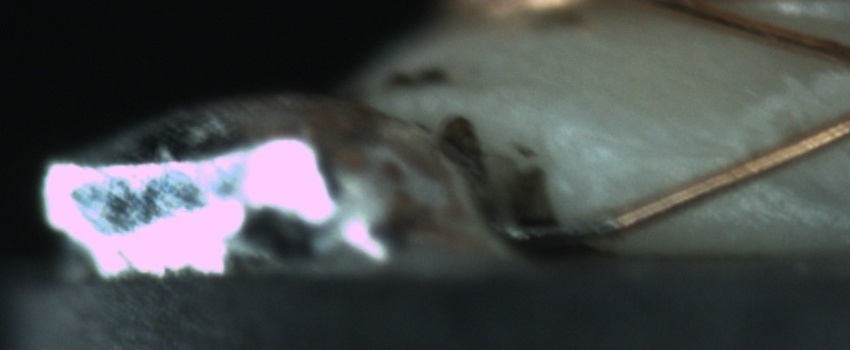DL: (600, 123, 750, 183)
